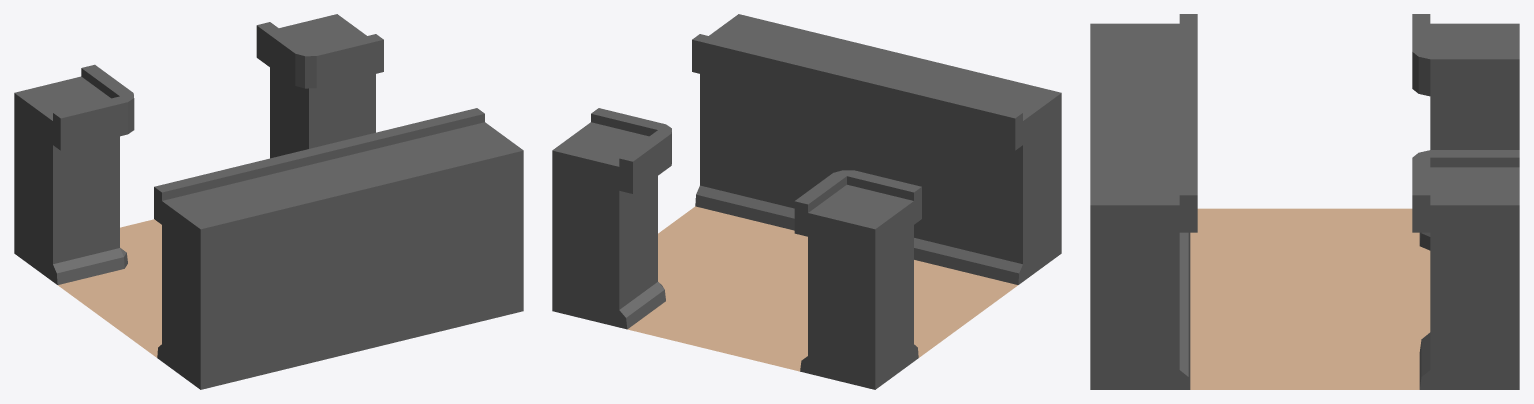
Rendered from Segment_T_Crossing.FBX.
The picture shows the model from 3 angles, left to right: view 1: azimuth 30°, elevation 25°; view 2: azimuth 150°, elevation 25°; view 3: azimuth 270°, elevation 25°; orthographic projection. The views are drawn at different scales.
Visible parts, largest first — view 1: Box081, Box085, Box082, Box083, Box084, Box086, Plane008; view 2: Plane008, Box081, Box085, Box086, Box084, Box083, Box082; view 3: Plane008, Box086, Box084, Box085, Box082, Box083, Box081.
Boxes of the visible parts, box(x1,y1,x2,y2) form: Box081: box(154, 167, 281, 389); Box085: box(14, 64, 134, 284); Box082: box(235, 147, 362, 370); Box083: box(316, 127, 442, 350); Box084: box(397, 108, 523, 330); Box086: box(256, 14, 383, 158); Plane008: box(58, 219, 161, 357); Plane008: box(627, 206, 1017, 371); Box081: box(934, 73, 1061, 284); Box085: box(794, 170, 921, 389); Box086: box(552, 108, 671, 329); Box084: box(692, 14, 818, 225); Box083: box(773, 33, 899, 230); Box082: box(853, 53, 980, 265); Plane008: box(1190, 208, 1430, 389); Box086: box(1412, 150, 1519, 389); Box084: box(1090, 150, 1197, 389); Box085: box(1412, 14, 1519, 250); Box082: box(1090, 59, 1197, 298); Box083: box(1090, 104, 1197, 343); Box081: box(1090, 14, 1197, 252).
Size of the model in its own units: 400 by 200 by 400.
